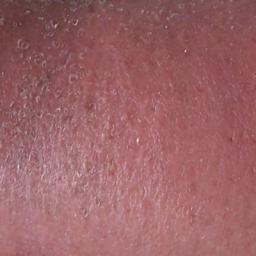urticaria: (41, 29, 175, 135)
